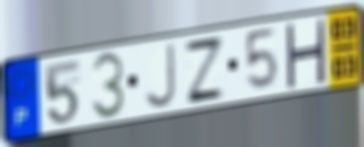3: (89, 49, 127, 122)
5: (42, 57, 83, 128), (241, 26, 280, 94)
H: (283, 17, 327, 89)
J: (142, 41, 178, 111)
Z: (182, 35, 227, 106)
